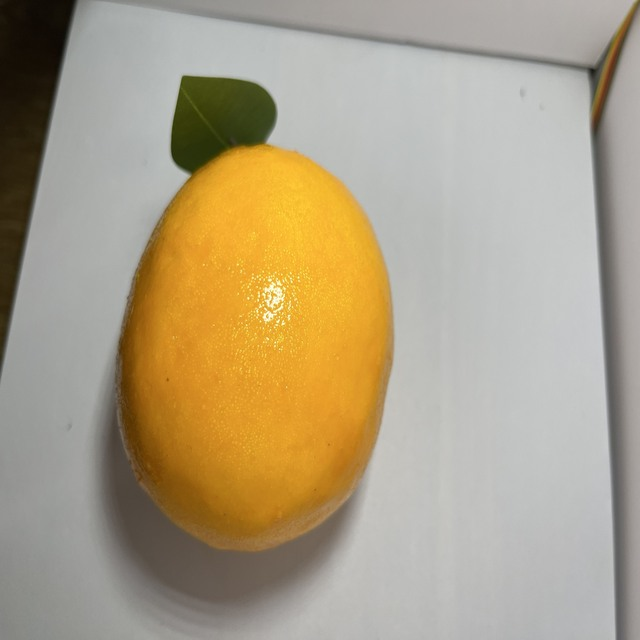Cam vang: (102, 133, 401, 556)
